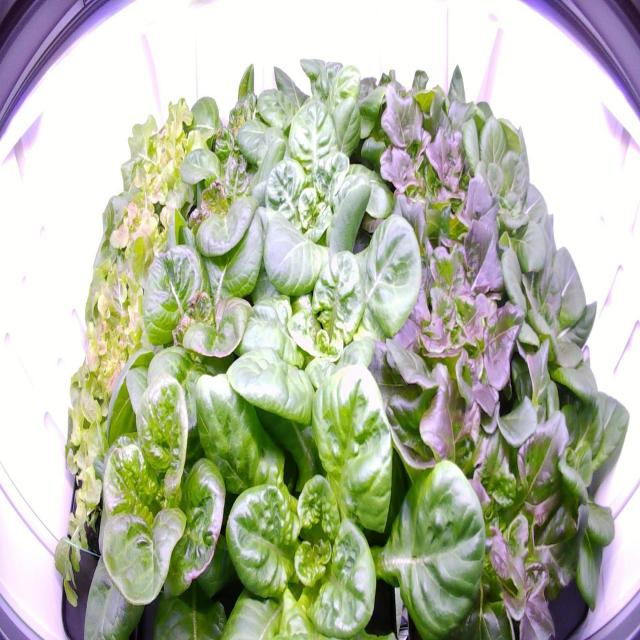Ready: (186, 334, 503, 639), (87, 200, 306, 474), (70, 354, 278, 638), (229, 166, 427, 463), (237, 88, 399, 300), (159, 117, 307, 318), (252, 31, 399, 194), (171, 45, 300, 229)
young: (489, 340, 632, 624), (478, 206, 604, 432), (451, 106, 562, 295), (410, 60, 532, 200)
